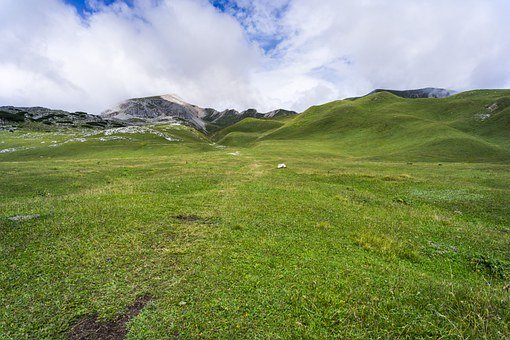field: (15, 115, 509, 336)
sky: (4, 1, 510, 102)
